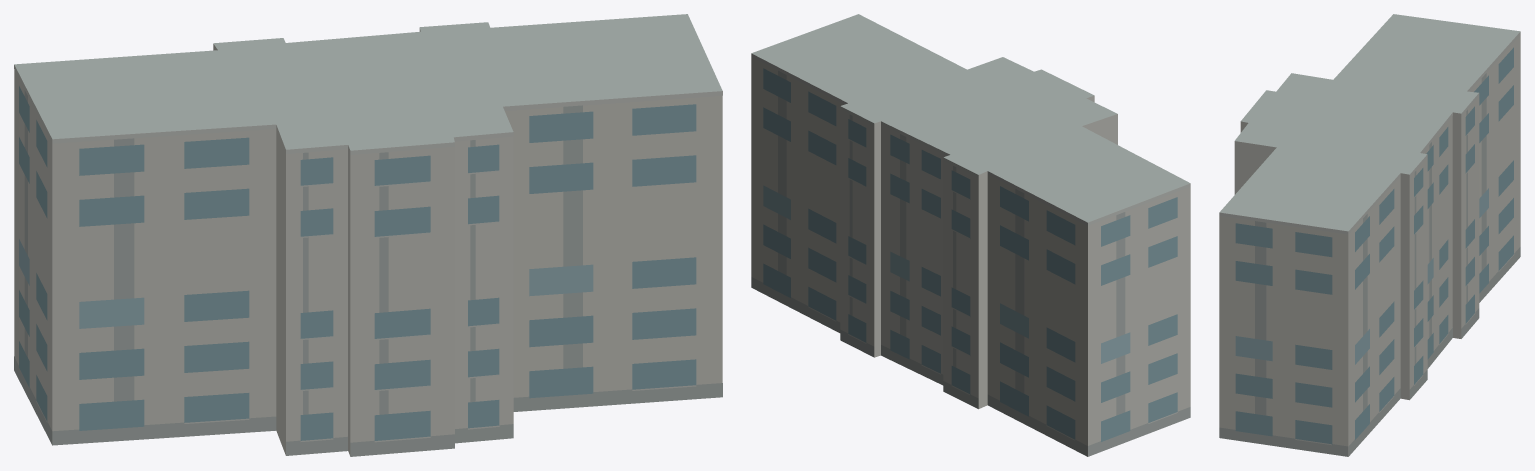
Rendered from survey-upis-32829331.glb.
3 views of the same model, side by side, from view 1: azimuth 30°, elevation 25°; view 2: azimuth 150°, elevation 25°; view 3: azimuth 270°, elevation 25° (orthographic). The views are drawn at different scales.
Visible parts, largest first — view 1: survey-upis-32829331.tmp; view 2: survey-upis-32829331.tmp; view 3: survey-upis-32829331.tmp.
Part boxes in pixels (left/top/right/bottom): survey-upis-32829331.tmp: left=14, top=14, right=722, bottom=456; survey-upis-32829331.tmp: left=751, top=14, right=1190, bottom=456; survey-upis-32829331.tmp: left=1219, top=14, right=1520, bottom=456.
Bounding box in the file's own units: 34.33 × 16.6 × 20.11.
